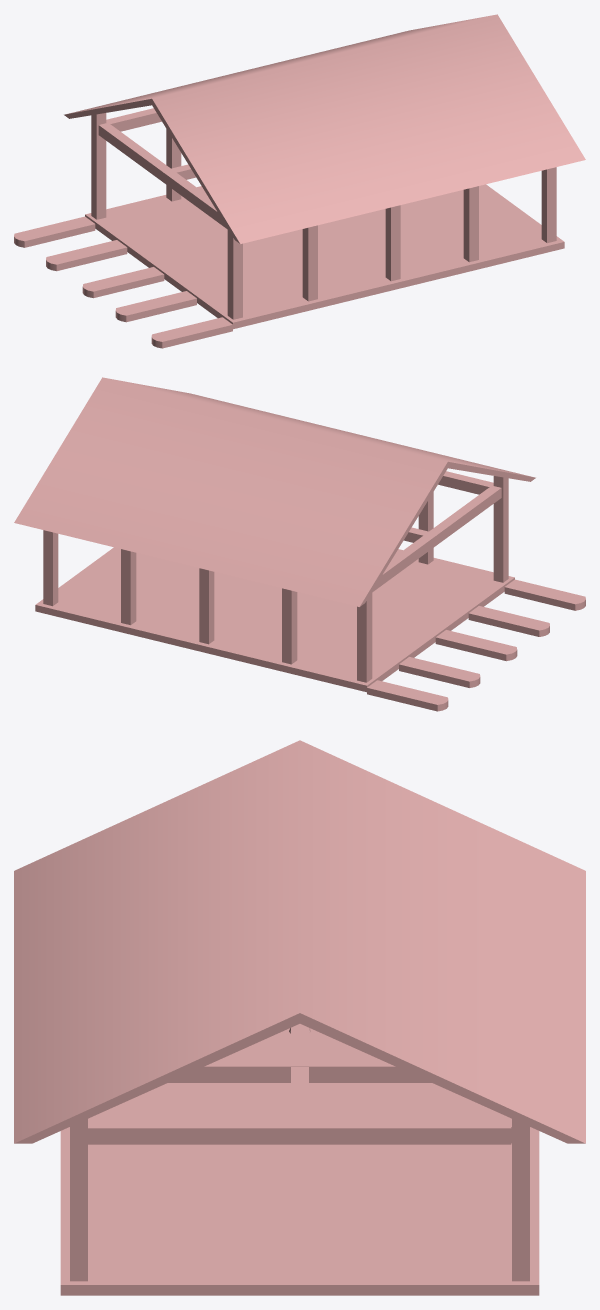
The model's file is BusInterchange_MOD_V01.fbx.
3 renders of one model, top to bottom at view 1: azimuth 30°, elevation 25°; view 2: azimuth 150°, elevation 25°; view 3: azimuth 270°, elevation 25°, orthographic. The views are drawn at different scales.
Parts seen in each view (by area): view 1: BusInterchange; view 2: BusInterchange; view 3: BusInterchange.
Boxes of the visible parts, x1,y1,x2,y2 form: BusInterchange: (14, 14, 585, 348); BusInterchange: (14, 377, 585, 711); BusInterchange: (14, 740, 585, 1295).
Bounding box in the file's own units: 7904 × 3294 × 5858.
